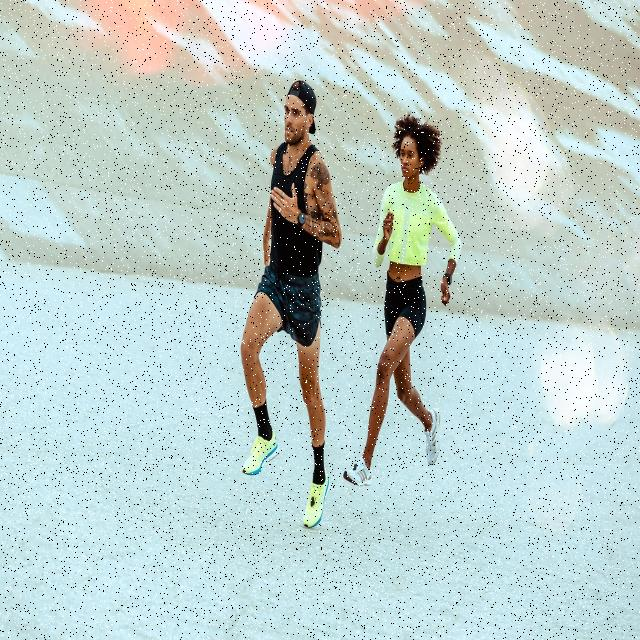Person: (240, 80, 342, 530), (343, 113, 463, 486)
